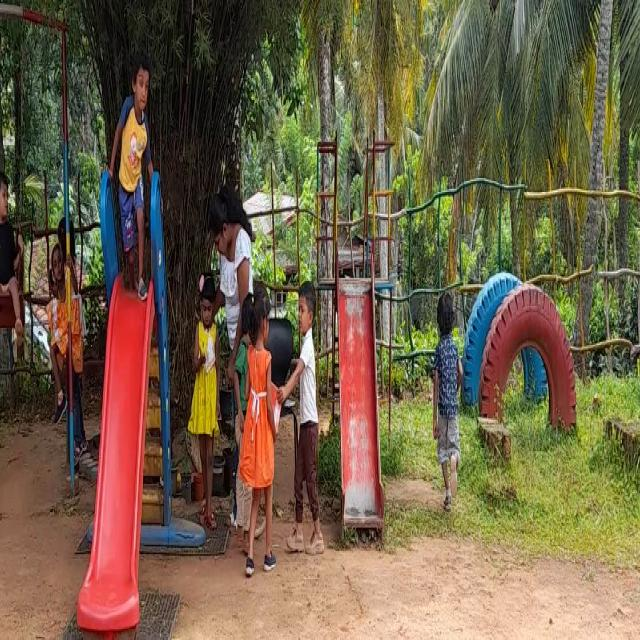child: (106, 64, 155, 298), (241, 297, 280, 579), (290, 280, 322, 547), (435, 280, 466, 511), (196, 272, 220, 518), (0, 160, 21, 354)
